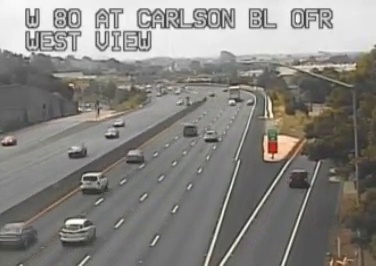car: (1, 222, 36, 249), (58, 217, 95, 242), (80, 172, 107, 191), (289, 170, 308, 189), (125, 149, 143, 163), (183, 124, 196, 137), (203, 130, 217, 140)
